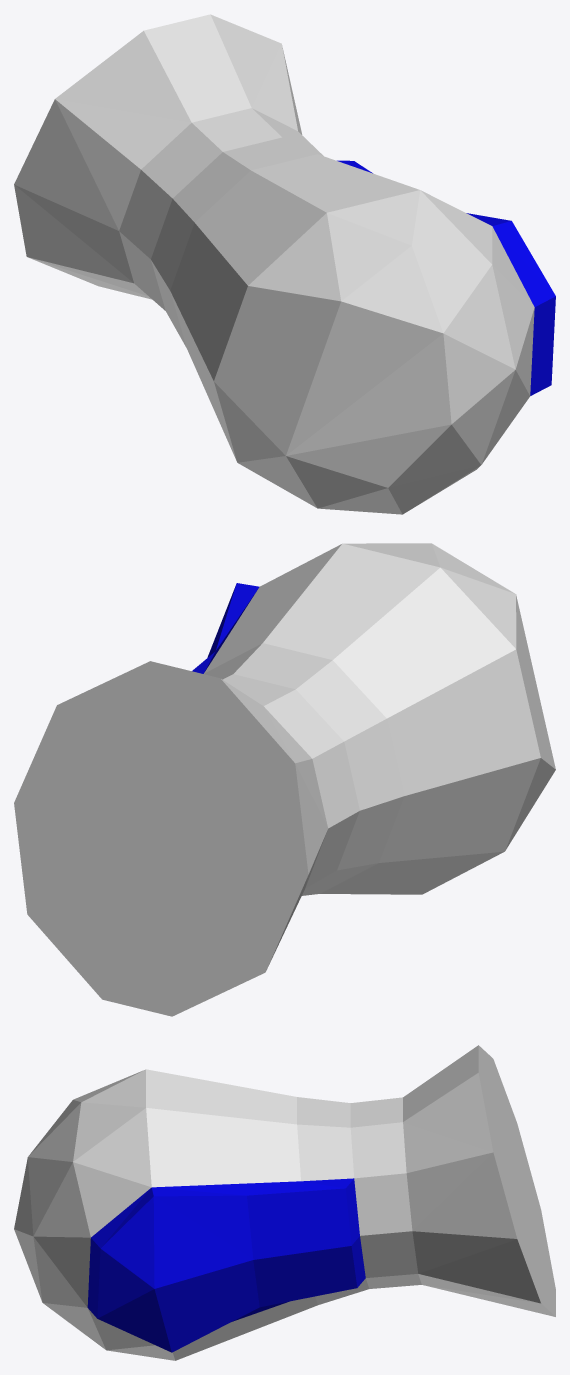
Rendered from musloderecho.dae.
3 views of the same model, one above another, from view 1: azimuth 30°, elevation 25°; view 2: azimuth 150°, elevation 25°; view 3: azimuth 270°, elevation 25° (orthographic). The views are drawn at different scales.
Visible parts, largest first — view 1: thigh_00_000, thigh_00_002, thigh_00_001; view 2: thigh_00_000, thigh_00_002, thigh_00_001; view 3: thigh_00_000, thigh_00_001, thigh_00_002.
Part boxes in pixels (x1,y1,x2,y2): thigh_00_000: (14,14,534,514); thigh_00_002: (195,154,419,285); thigh_00_001: (337,160,555,395); thigh_00_000: (14,543,555,1016); thigh_00_002: (204,543,515,718); thigh_00_001: (192,583,259,673); thigh_00_000: (14,1045,555,1360); thigh_00_001: (87,1178,365,1352); thigh_00_002: (146,1069,300,1187).
Size of the model in its own units: 1.52 by 2.57 by 1.48.
